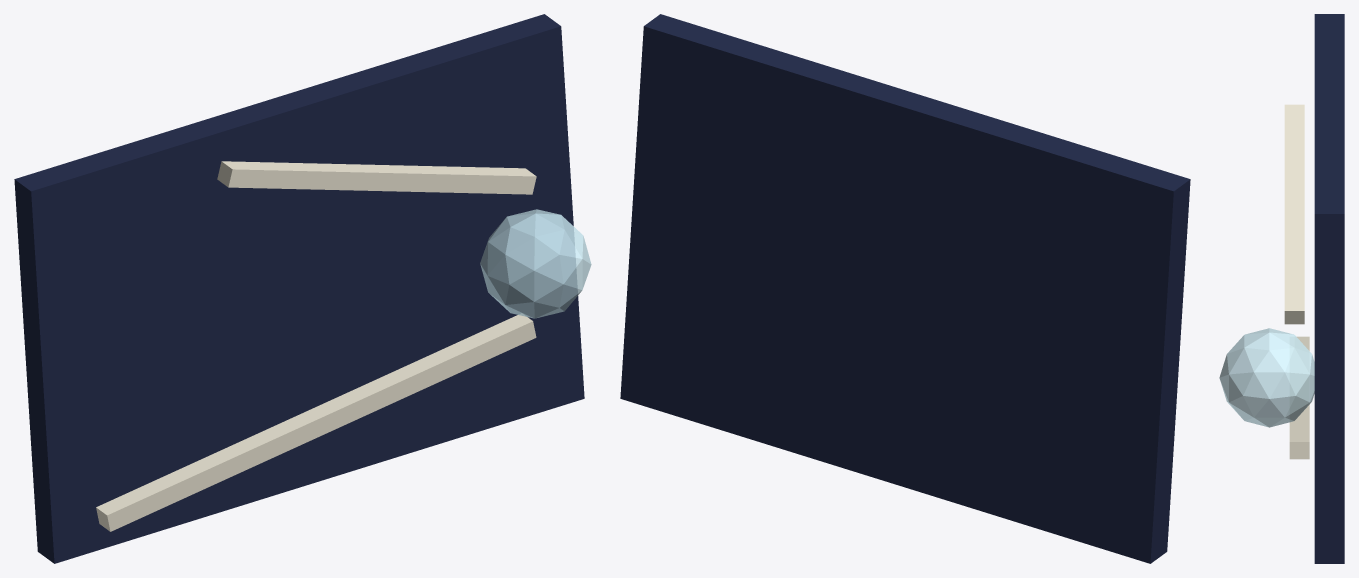
Rendered from 02_world_prop_polish.glb.
3 views of the same model, side by side, from view 1: azimuth 30°, elevation 25°; view 2: azimuth 150°, elevation 25°; view 3: azimuth 270°, elevation 25° (orthographic). The views are drawn at different scales.
Parts seen in each view (by area): view 1: object_overlay_plate, edge_wear_a, glow_socket, edge_wear_b; view 2: object_overlay_plate; view 3: object_overlay_plate, glow_socket, edge_wear_b, edge_wear_a.
Boxes of the visible parts, bbox=[...] form: object_overlay_plate: bbox=[14, 14, 584, 563]; edge_wear_a: bbox=[96, 314, 536, 531]; glow_socket: bbox=[480, 209, 591, 318]; edge_wear_b: bbox=[217, 161, 536, 194]; object_overlay_plate: bbox=[620, 14, 1190, 563]; object_overlay_plate: bbox=[1314, 14, 1344, 563]; glow_socket: bbox=[1219, 328, 1314, 427]; edge_wear_b: bbox=[1284, 104, 1304, 324]; edge_wear_a: bbox=[1289, 336, 1309, 459].
Bounding box in the file's own units: 1.15 × 0.8194 × 0.25.
